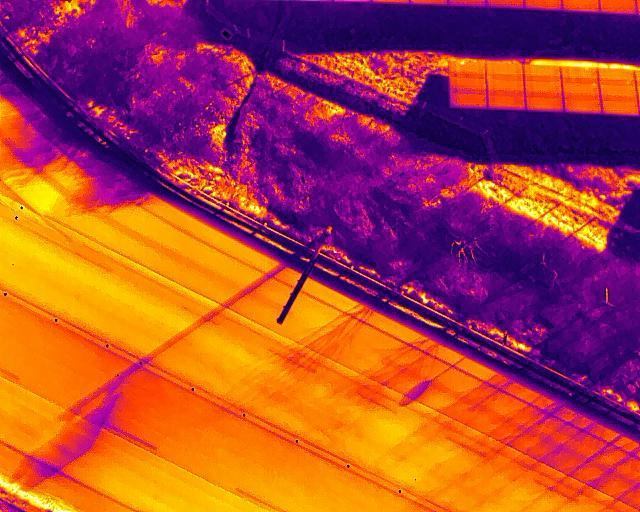Cell: (562, 78, 600, 95), (600, 79, 637, 96), (559, 66, 598, 80), (450, 61, 486, 74)
No-Anomaly: (486, 90, 526, 109), (562, 95, 601, 113), (525, 94, 563, 112), (450, 89, 487, 107), (485, 74, 524, 91), (602, 97, 639, 114), (524, 77, 562, 93), (449, 74, 486, 90), (486, 62, 523, 76), (524, 65, 561, 78), (598, 68, 635, 80)
